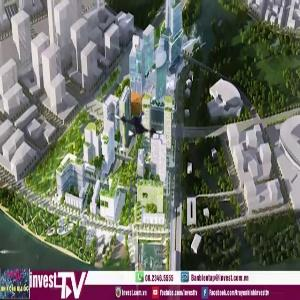drone: (112, 90, 169, 147)
